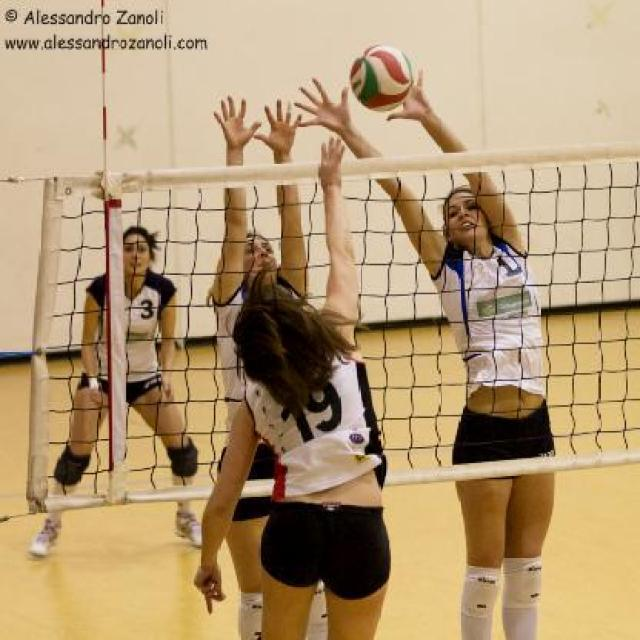volleyball: (350, 44, 414, 112)
